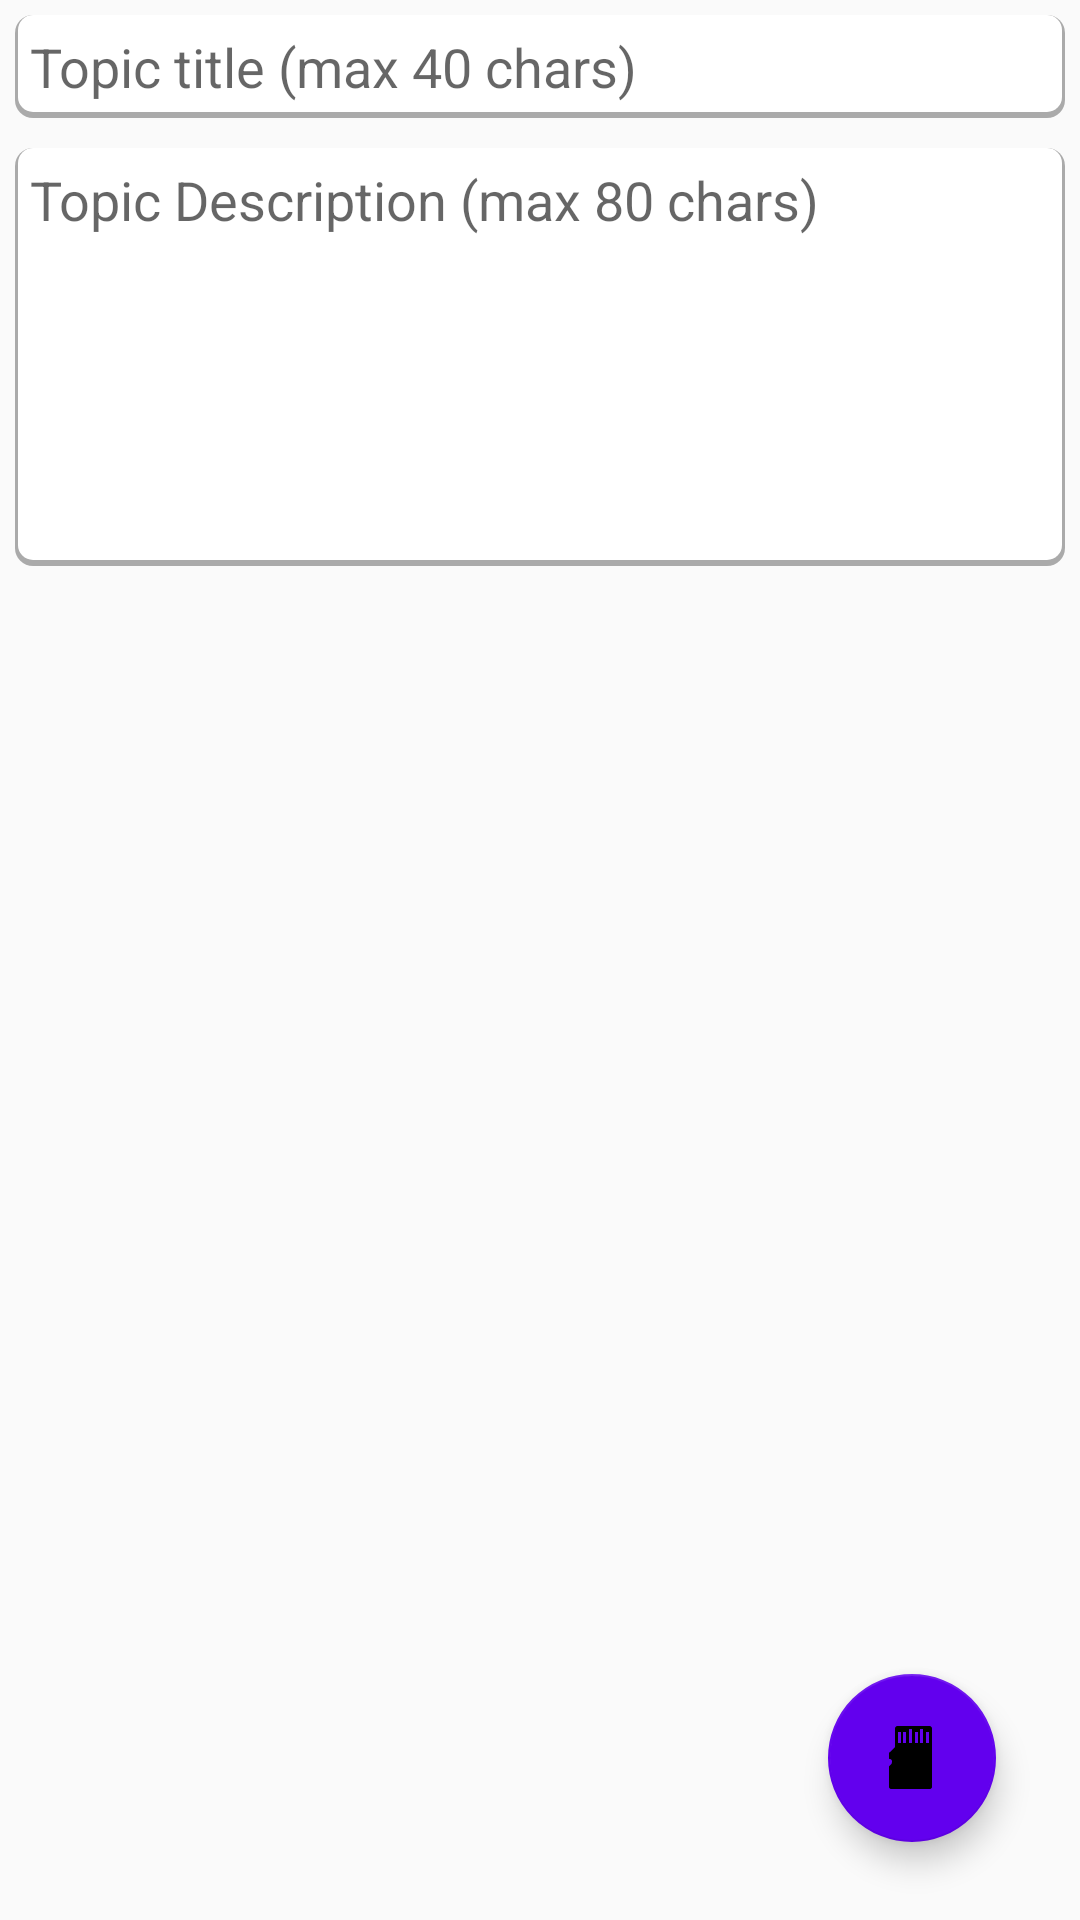

Locate icon controls on the screen. Image size 1080 x 1920, boxes as (x1, y1, x2, y2).
sdcard: (828, 1674, 996, 1842)
